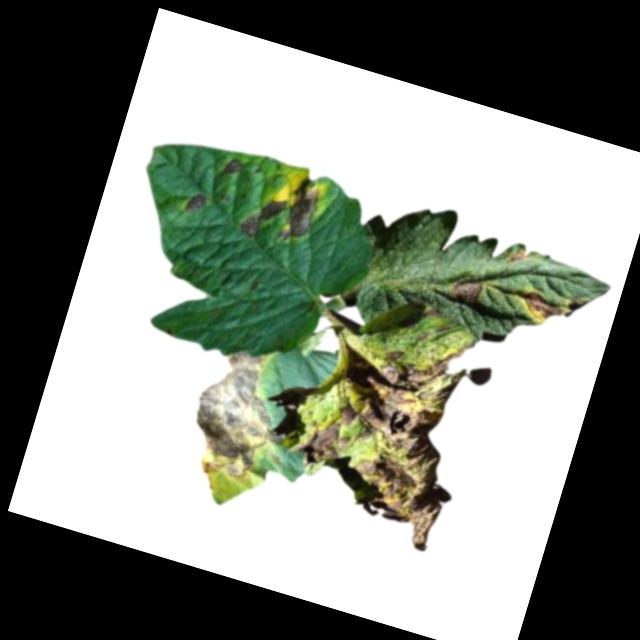Early_blight: (289, 327, 481, 551), (183, 342, 292, 489), (235, 163, 324, 253), (514, 288, 566, 327), (447, 270, 485, 304), (182, 187, 210, 216), (506, 245, 530, 270), (217, 154, 241, 176), (420, 302, 445, 323)
